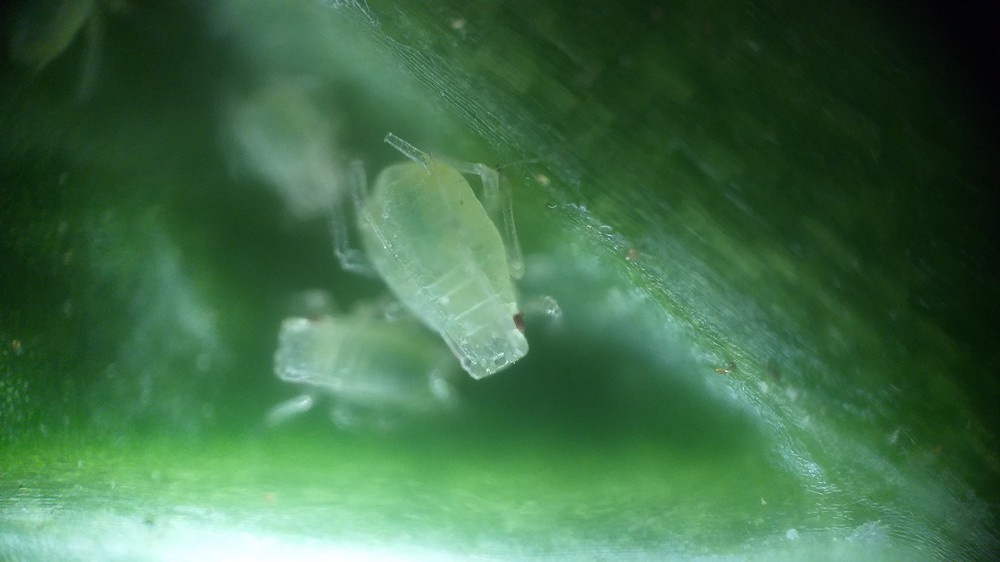Pulgon: (325, 133, 597, 391), (250, 280, 508, 459)
